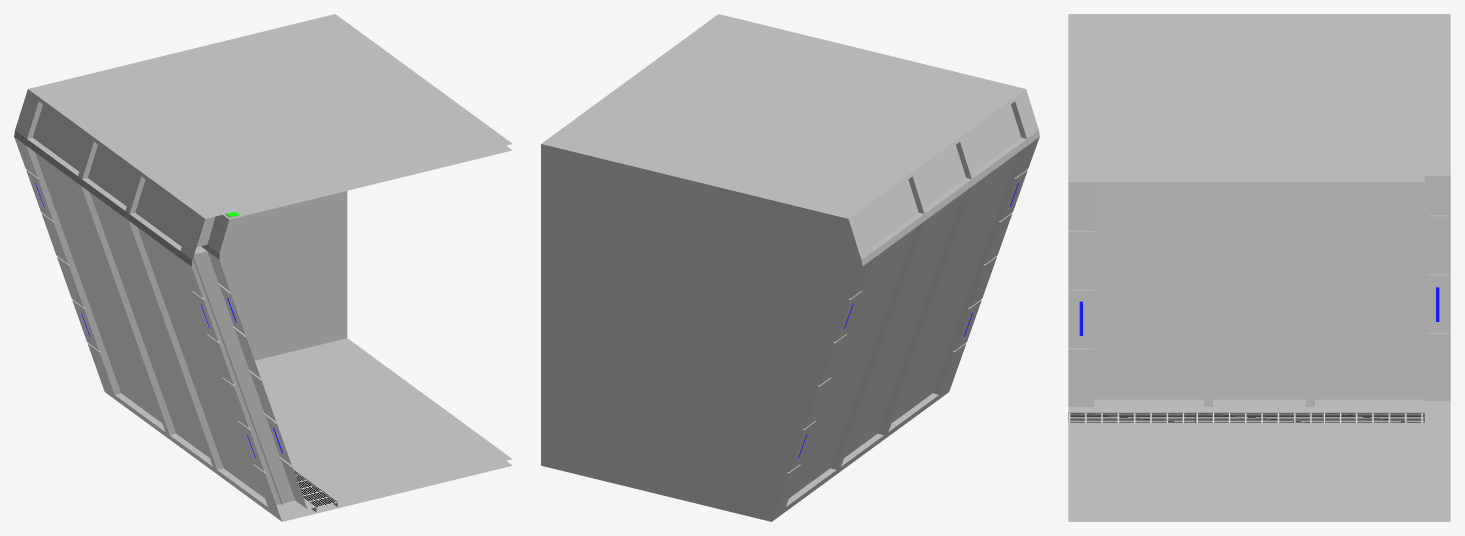
The model's file is Wall_30_Edge.FBX.
The picture shows the model from 3 angles, left to right: view 1: azimuth 30°, elevation 25°; view 2: azimuth 150°, elevation 25°; view 3: azimuth 270°, elevation 25°; orthographic projection. The views are drawn at different scales.
Parts seen in each view (by area): view 1: Wall_30_Edge_LOD0; view 2: Wall_30_Edge_LOD0; view 3: Wall_30_Edge_LOD0.
Boxes of the visible parts, x1,y1,x2,y2 form: Wall_30_Edge_LOD0: [14, 14, 512, 521]; Wall_30_Edge_LOD0: [541, 14, 1039, 521]; Wall_30_Edge_LOD0: [1068, 14, 1450, 521].
Size of what is drawn, in the model's own units: 188 by 180 by 180.
